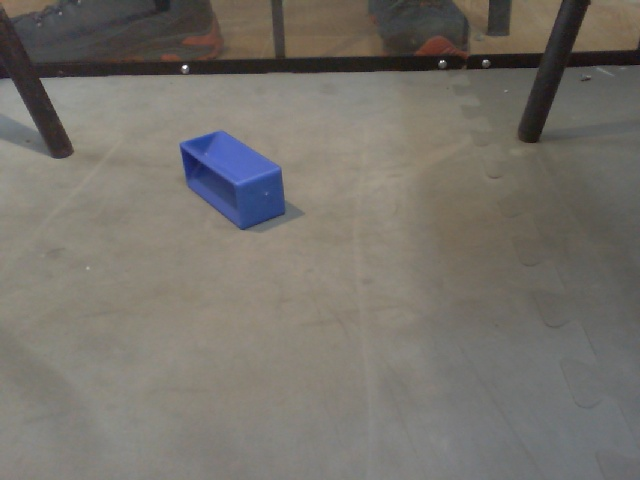BlueSample: (178, 128, 290, 230)
